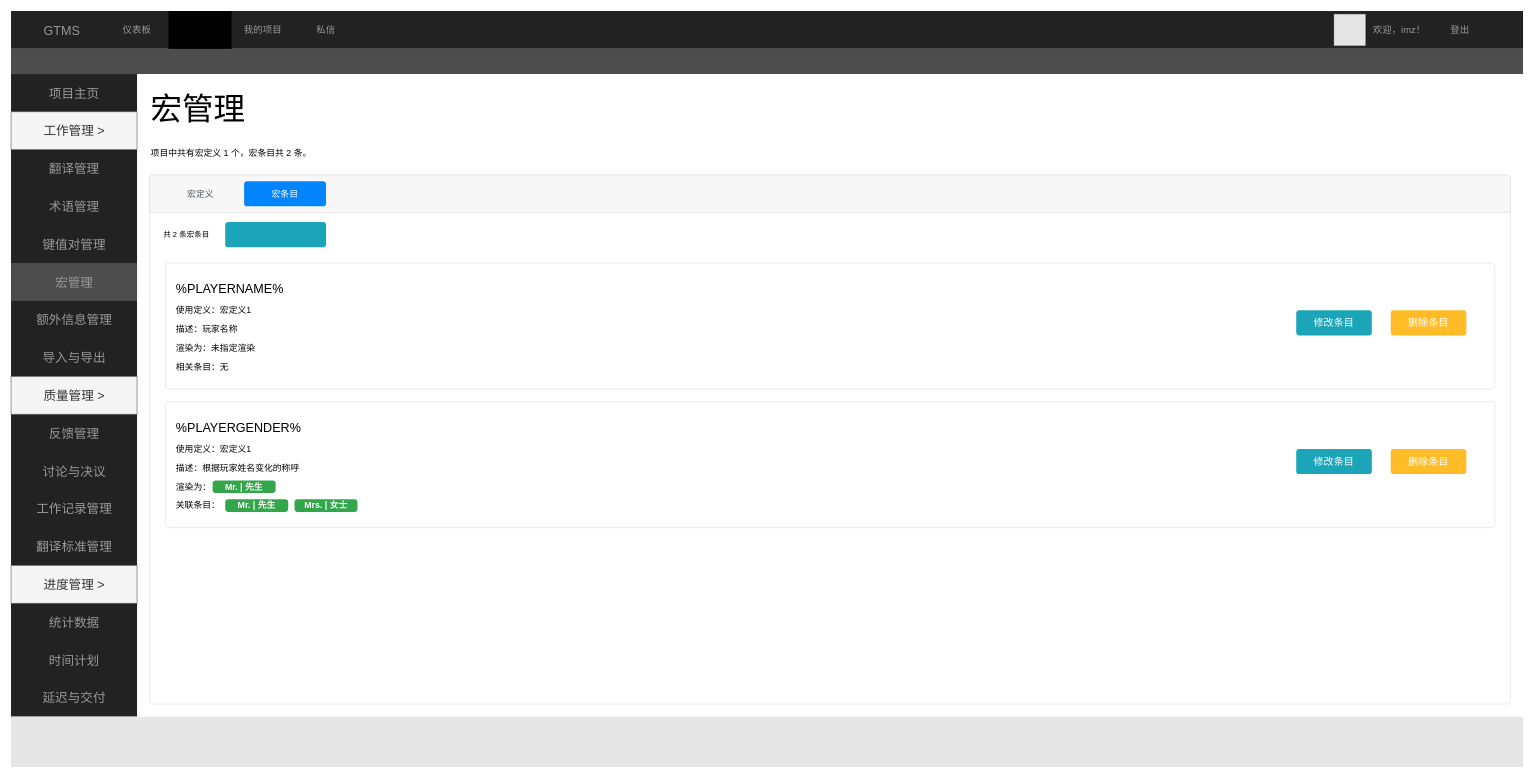
This 1534x777 diagram has some shape labels left out. Grey dashed boxes stand in for pictures. The centre of each missing label's shape, as x and y in pixels:
"Yifan Xu 毕业设计 @天津工业大学" belongs at [767,741].
"新增条目" belongs at [275,234].
"示例中文化项目01 / 宏管理" belongs at [767,61].
"项目浏览" belongs at [199,30].
